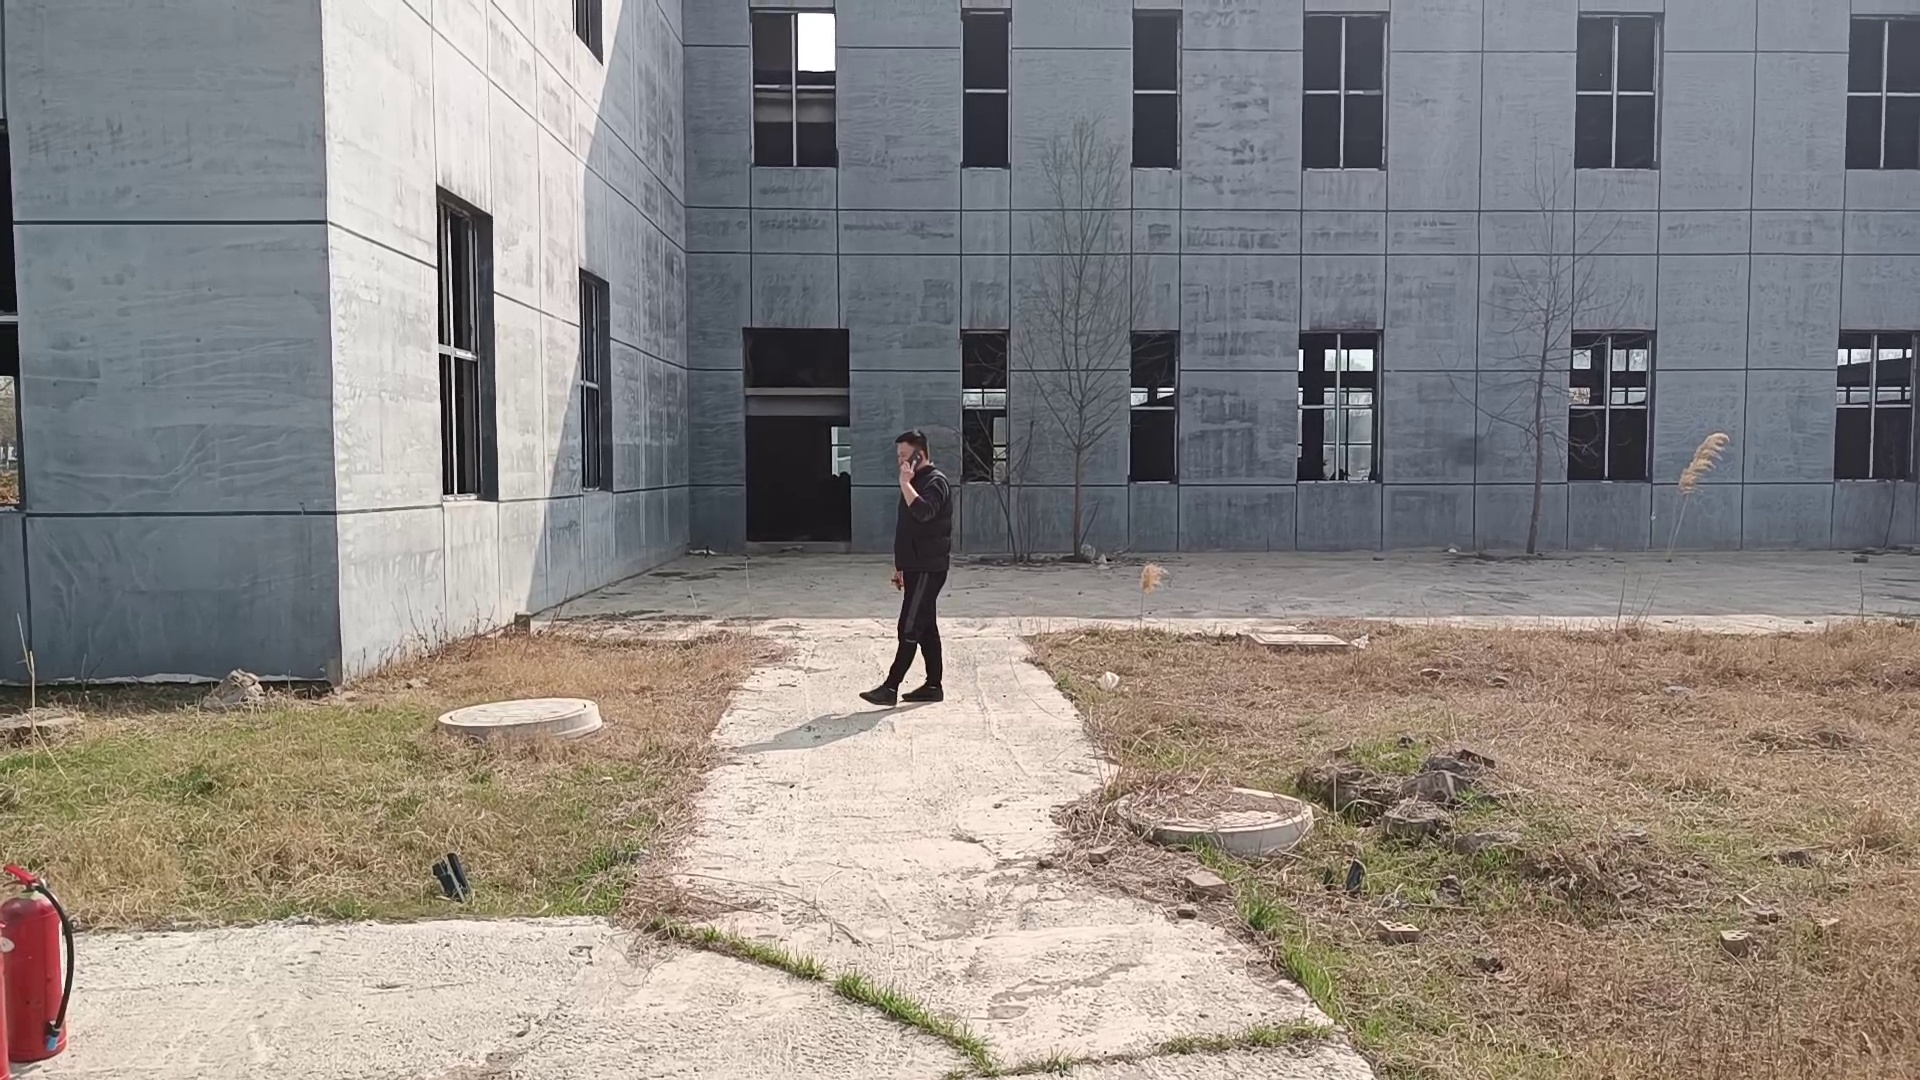phone: (887, 429, 928, 479)
